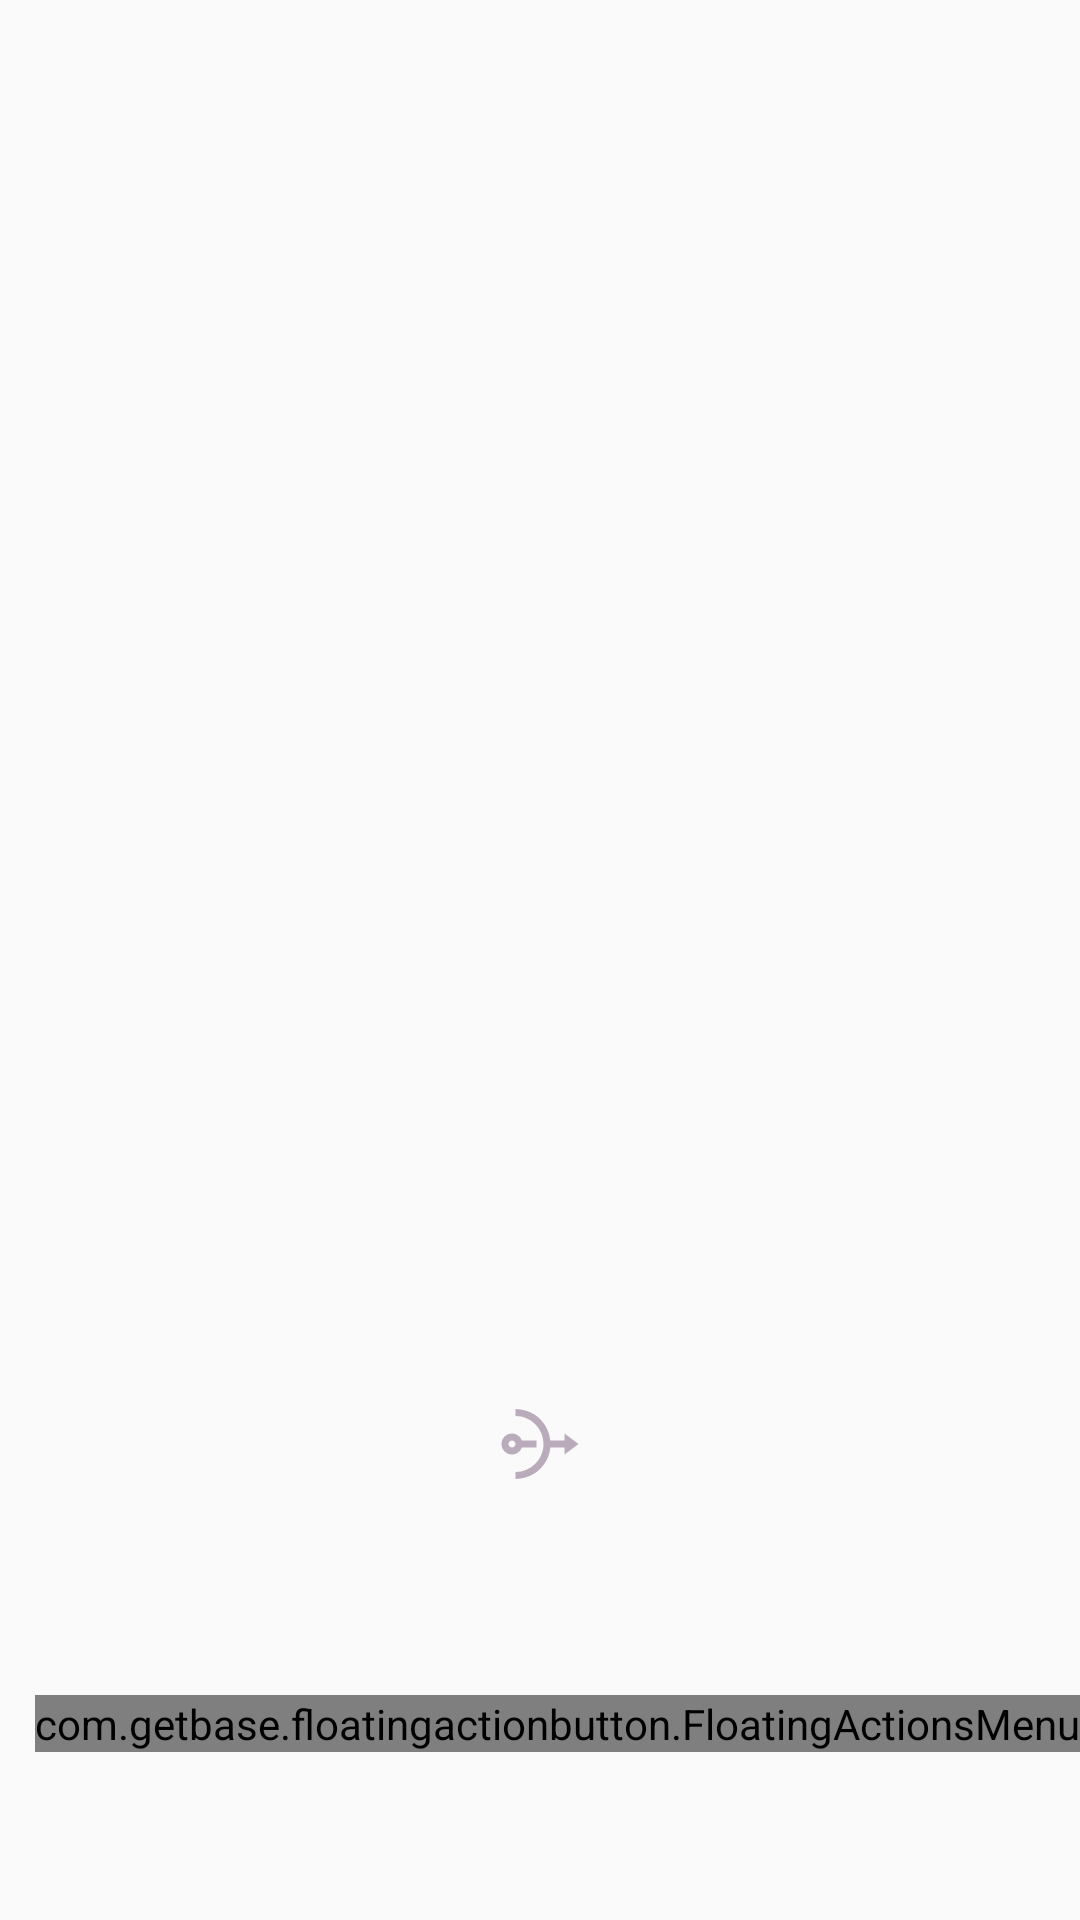

Icon click points for this 1080w x 1920h phone screenshot, format [x,y]:
nat: [539,1444]
